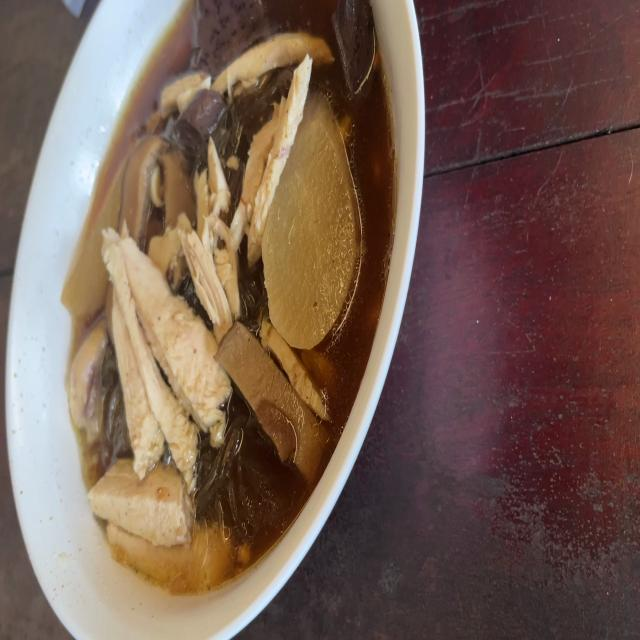boiled_chicken_blood_jelly: (185, 0, 267, 62), (334, 0, 374, 91), (178, 90, 226, 150)
chicken_shredded: (103, 234, 225, 465), (235, 61, 308, 252), (190, 152, 234, 325), (211, 33, 333, 93), (94, 473, 196, 539), (70, 324, 102, 436), (158, 83, 207, 97)
daikon_radish: (272, 133, 340, 330), (65, 154, 121, 318)
noodle: (71, 0, 396, 595)
